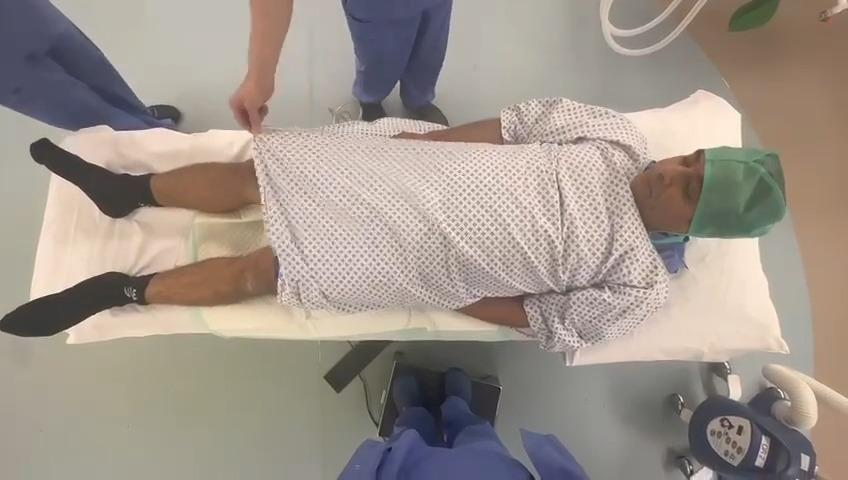patient: (0, 99, 785, 350)
